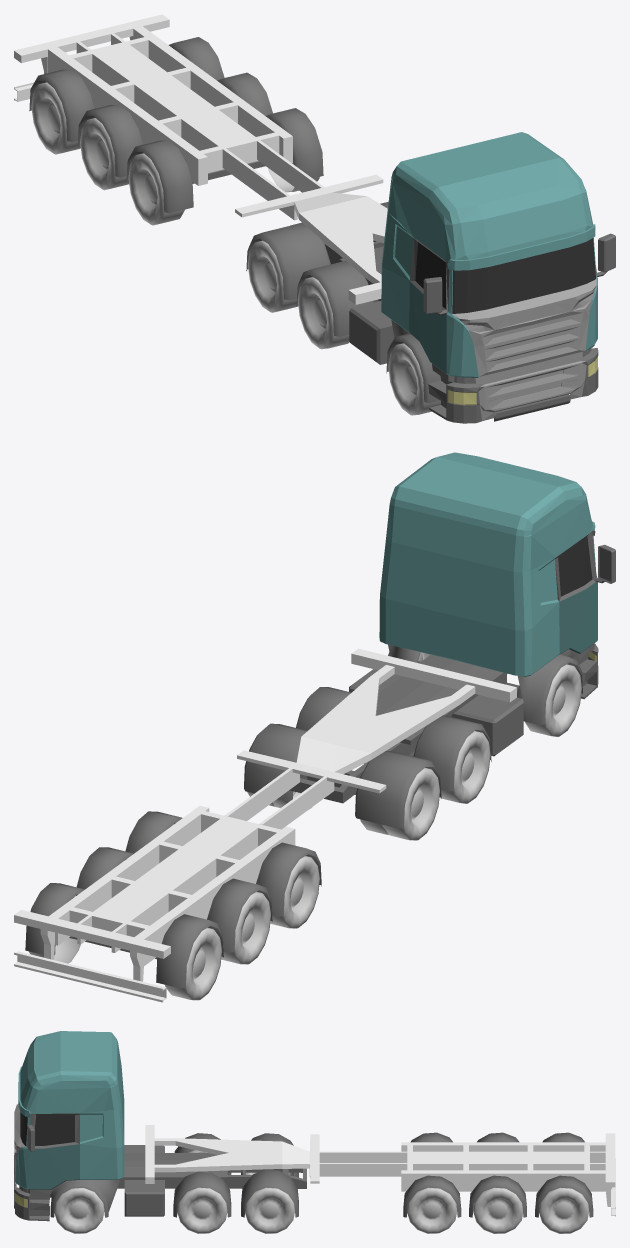
File: scania.dae
3 renders of one model, top to bottom at view 1: azimuth 30°, elevation 25°; view 2: azimuth 150°, elevation 25°; view 3: azimuth 270°, elevation 25°, orthographic. The views are drawn at different scales.
Parts seen in each view (by area): view 1: car, trailer, wheel2_R, wheel4_R, wheel3_R, wheel1_R, wheel6_R, wheel5_R; view 2: car, trailer, wheel3_R, wheel1_R, wheel6_R, wheel2_R, wheel5_R, wheel4_R; view 3: car, trailer, wheel5_L, wheel2_L, wheel6_L, wheel4_L, wheel3_L, wheel1_L.
Boxes of the visible parts, x1=… form: car: x1=246, y1=132, x2=615, y2=423; trailer: x1=14, y1=14, x2=387, y2=304; wheel2_R: x1=298, y1=277, x2=349, y2=349; wheel4_R: x1=128, y1=153, x2=184, y2=225; wheel3_R: x1=248, y1=240, x2=298, y2=312; wheel1_R: x1=388, y1=343, x2=440, y2=415; wheel6_R: x1=31, y1=82, x2=80, y2=154; wheel5_R: x1=80, y1=118, x2=129, y2=190; car: x1=244, y1=452, x2=615, y2=828; trailer: x1=14, y1=648, x2=516, y2=1002; wheel3_R: x1=360, y1=767, x2=439, y2=840; wheel1_R: x1=525, y1=664, x2=581, y2=736; wheel6_R: x1=165, y1=927, x2=221, y2=1000; wheel2_R: x1=439, y1=731, x2=490, y2=803; wheel5_R: x1=221, y1=892, x2=270, y2=964; wheel4_R: x1=270, y1=856, x2=319, y2=928; car: x1=14, y1=1031, x2=306, y2=1221; trailer: x1=145, y1=1125, x2=615, y2=1217; wheel5_L: x1=473, y1=1187, x2=522, y2=1233; wheel2_L: x1=177, y1=1187, x2=227, y2=1233; wheel6_L: x1=539, y1=1187, x2=588, y2=1233; wheel4_L: x1=407, y1=1187, x2=456, y2=1233; wheel3_L: x1=245, y1=1187, x2=294, y2=1233; wheel1_L: x1=54, y1=1188, x2=104, y2=1233.
Size of the model in its own units: 3.84 by 15.47 by 4.47.
